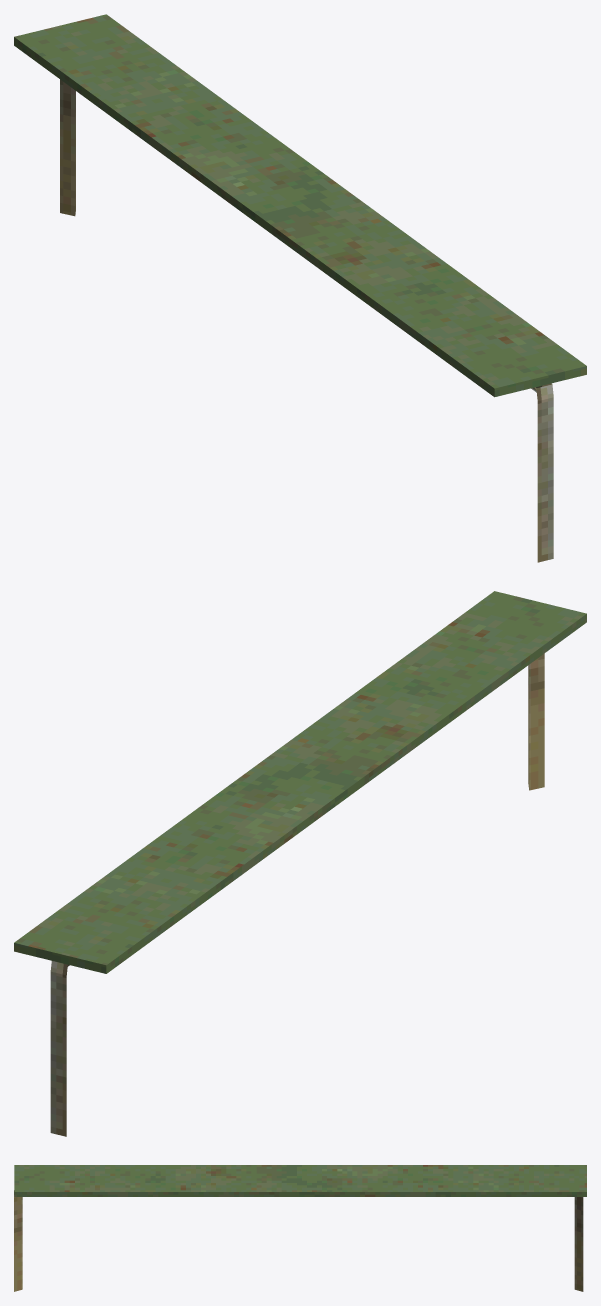
Rendered from busstop_bench_long.glb.
3 renders of one model, top to bottom at view 1: azimuth 30°, elevation 25°; view 2: azimuth 150°, elevation 25°; view 3: azimuth 270°, elevation 25°, orthographic. The views are drawn at different scales.
Parts seen in each view (by area): view 1: busstop_bench_long; view 2: busstop_bench_long; view 3: busstop_bench_long.
Boxes of the visible parts, bbox=[...] form: busstop_bench_long: bbox=[14, 14, 586, 562]; busstop_bench_long: bbox=[14, 591, 586, 1136]; busstop_bench_long: bbox=[14, 1165, 586, 1291].
Size of the model in its own units: 0.4 by 0.7619 by 3.6.
Materials: 1 (1 with a texture image).
